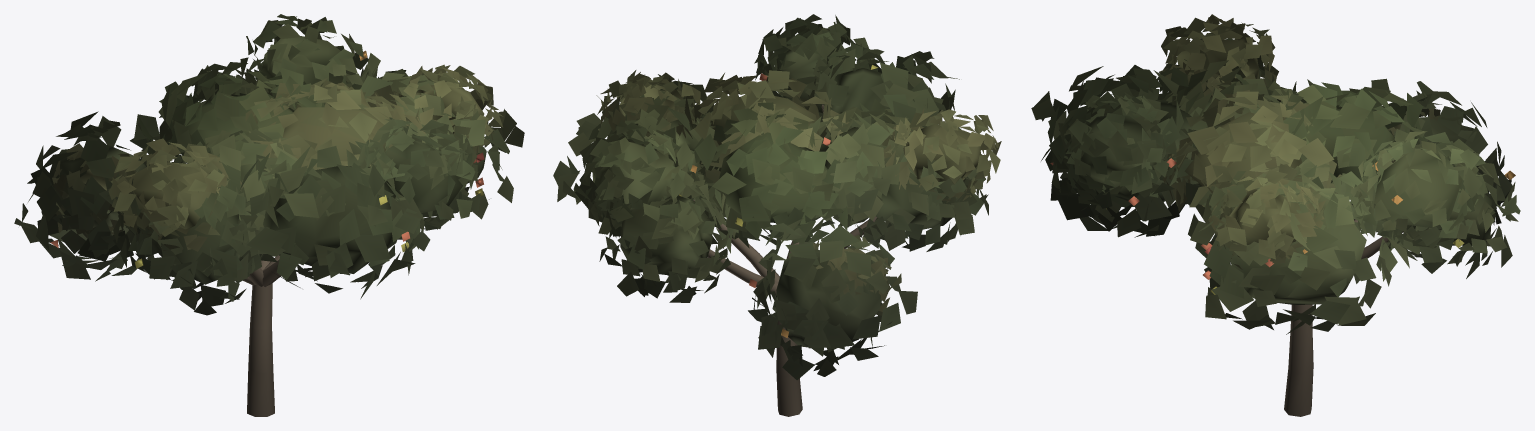
The model's file is manzano_a.glb.
3 views of the same model, side by side, from view 1: azimuth 30°, elevation 25°; view 2: azimuth 150°, elevation 25°; view 3: azimuth 270°, elevation 25° (orthographic). The views are drawn at different scales.
Visible parts, largest first — view 1: ManzanoAHojas, ManzanoACopa, ManzanoATronco; view 2: ManzanoAHojas, ManzanoACopa, ManzanoATronco; view 3: ManzanoAHojas, ManzanoACopa, ManzanoATronco.
Boxes of the visible parts, box(x1,y1,x2,y2) form: ManzanoAHojas: box(14, 14, 524, 315); ManzanoACopa: box(41, 36, 486, 284); ManzanoATronco: box(243, 255, 280, 416); ManzanoAHojas: box(553, 14, 1001, 380); ManzanoACopa: box(592, 37, 980, 347); ManzanoATronco: box(693, 104, 877, 416); ManzanoAHojas: box(1031, 14, 1520, 334); ManzanoACopa: box(1050, 38, 1515, 304); ManzanoATronco: box(1284, 219, 1403, 416).
Size of what is drawn, in the model's own units: 5.9 by 4.5 by 5.84.
